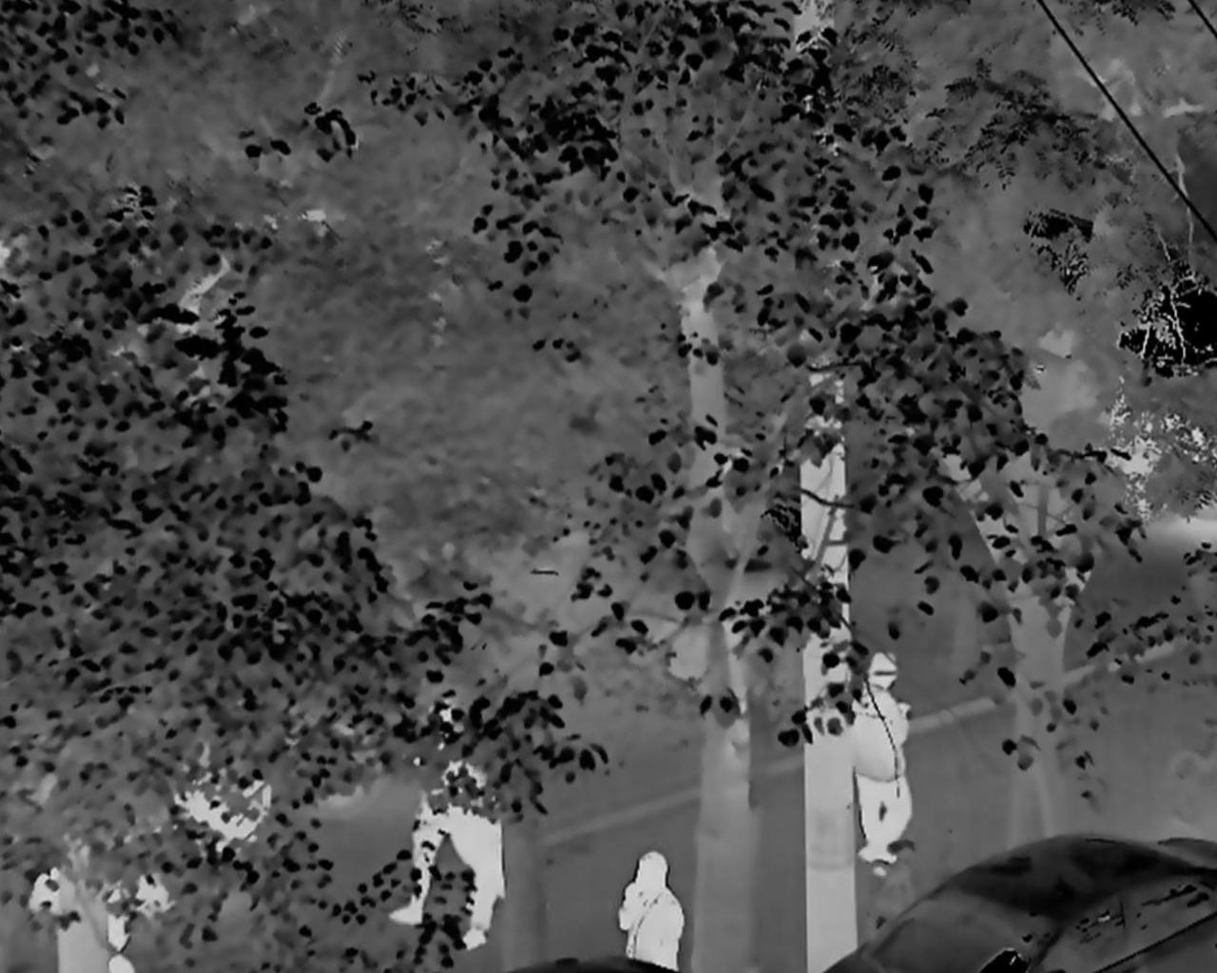person: (397, 709, 505, 939), (857, 651, 911, 870), (612, 849, 686, 966)
